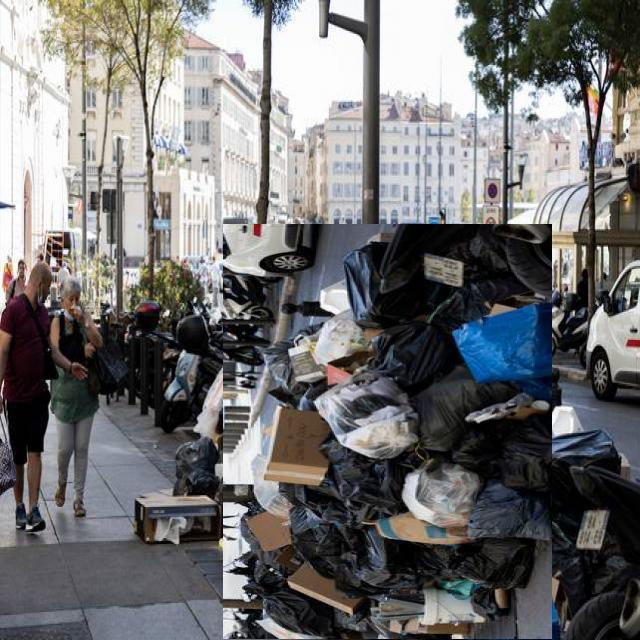Trashbag: (328, 435, 418, 521), (282, 498, 368, 583), (412, 377, 512, 449), (441, 532, 540, 594), (344, 244, 416, 323), (370, 321, 462, 380), (244, 568, 326, 632), (497, 414, 559, 496), (463, 484, 549, 543)
